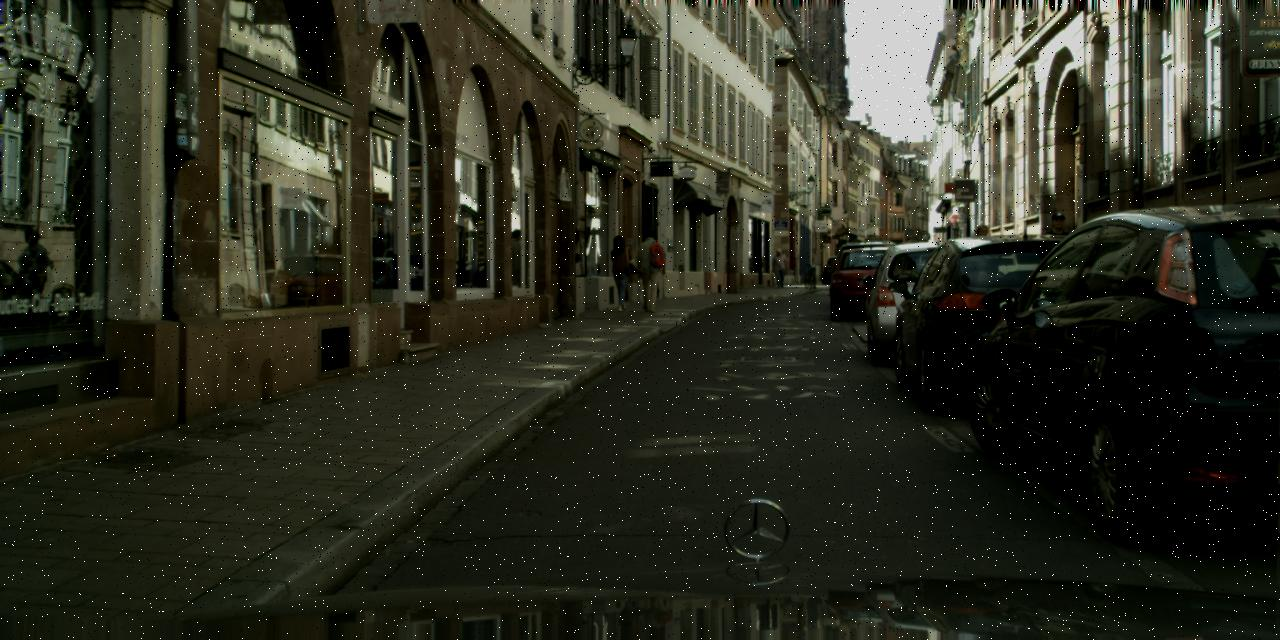ped: (1037, 213, 1078, 313), (964, 224, 1000, 310), (632, 229, 665, 311), (605, 234, 635, 310), (771, 248, 786, 286)
